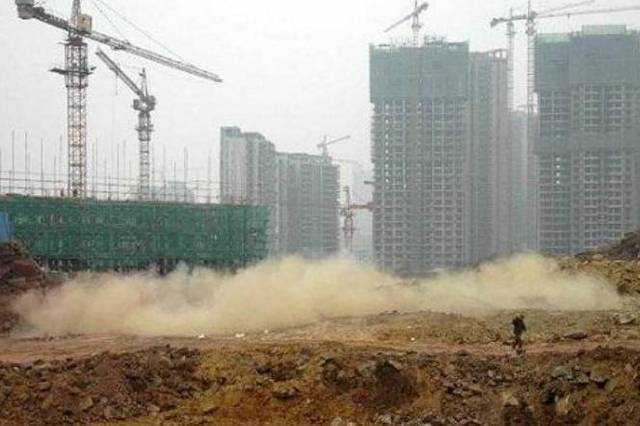dust: (31, 255, 614, 321)
